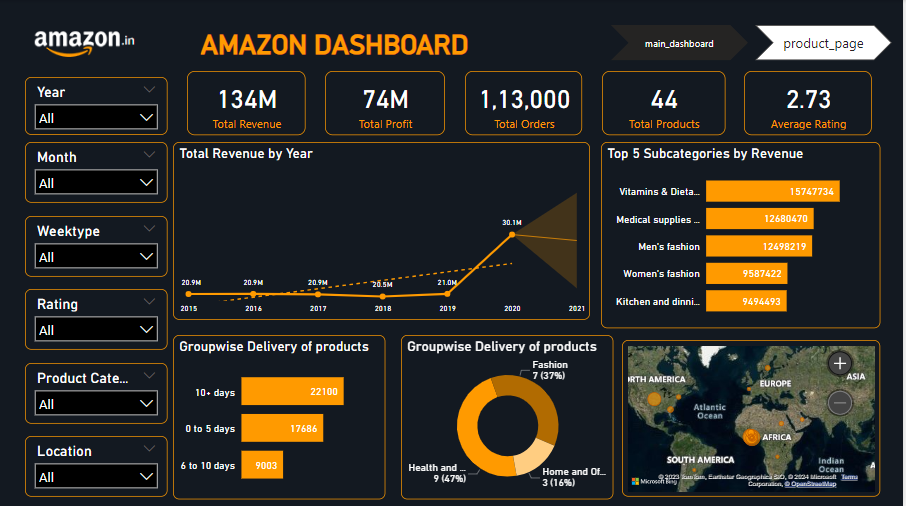

Layout of this report page (visuals, bound fields, positions):
{"tool":"powerbi","page":{"name":"main_dashboard","canvas":[1280,720],"ordinal":0},"visuals":[{"type":"slicer","fields":{"Values":["Calender.Year"]},"box":[37,109.2,201.6,82.3],"z":0},{"type":"slicer","fields":{"Values":["Calender.month"]},"box":[37,201.6,201.6,85.7],"z":1000},{"type":"slicer","fields":{"Values":["Calender.Weektype"]},"box":[37,305.7,201.6,85.7],"z":2000},{"type":"slicer","fields":{"Values":["E_commarce.Rating"]},"box":[37,409.9,201.6,85.7],"z":3000},{"type":"slicer","fields":{"Values":["E_commarce.Product Category"]},"box":[37,514,201.6,85.7],"z":4000},{"type":"slicer","fields":{"Values":["E_commarce.Location"]},"box":[37,618.2,201.6,85.7],"z":5000},{"type":"card","fields":{"Values":["All Measures.Total Revenue"]},"box":[266.4,100.8,168,90.7],"z":6000},{"type":"card","fields":{"Values":["All Measures.Total Profit"]},"box":[462.3,100.8,169.7,90.7],"z":7000},{"type":"card","fields":{"Values":["All Measures.Total Orders"]},"box":[659.8,100.8,166.3,90.7],"z":8000},{"type":"card","fields":{"Values":["All Measures.Total Customers"]},"box":[854,100.8,174.7,90.7],"z":9000},{"type":"card","fields":{"Values":["All Measures.Average rating"]},"box":[1056.6,100.8,181.4,90.7],"z":10000},{"type":"textbox","box":[280.5,35.3,671.9,68.9],"z":11000},{"type":"image","box":[37,18.5,168,85.7],"z":12000},{"type":"lineChart","fields":{"Category":["Calender.Year","Calender.Weektype","Calender.Quarter","Calender.month"],"Y":["All Measures.Total Revenue"]},"box":[246.9,201.6,591.3,252],"z":13000},{"type":"barChart","title":"Top 5 Subcategories by Revenue","fields":{"Category":["E_commarce.SubCategory"],"Y":["All Measures.Total Revenue"]},"box":[853.3,201.6,396.4,263.7],"z":14000},{"type":"map","fields":{"Category":["E_commarce.Location"],"Size":["All Measures.Total Revenue"]},"box":[883.6,482.1,366.2,221.7],"z":15000},{"type":"barChart","title":"Groupwise Delivery of products","fields":{"Category":["E_commarce.Delivery Groups (bins)"],"Y":["CountNonNull(E_commarce.Product)"]},"box":[246.9,475.4,300.7,233.5],"z":16000},{"type":"donutChart","title":"Groupwise Delivery of products","fields":{"Category":["E_commarce.Product Category"],"Y":["All Measures.Total Products"]},"box":[569.4,475.4,300.7,233.5],"z":17000},{"type":"pageNavigator","box":[866.8,35.3,399.8,50.4],"z":18000}]}

Visuals, with their boxes in screenshot pixels (x1, y1, x2, y2), scaled from the page's 1280x720 canvas onto the 906x506 screenshot:
slicer - Calender.Year: l=26, t=77, r=169, b=135
slicer - Calender.month: l=26, t=142, r=169, b=202
slicer - Calender.Weektype: l=26, t=215, r=169, b=275
slicer - E_commarce.Rating: l=26, t=288, r=169, b=348
slicer - E_commarce.Product Category: l=26, t=361, r=169, b=421
slicer - E_commarce.Location: l=26, t=434, r=169, b=495
card - All Measures.Total Revenue: l=189, t=71, r=307, b=135
card - All Measures.Total Profit: l=327, t=71, r=447, b=135
card - All Measures.Total Orders: l=467, t=71, r=585, b=135
card - All Measures.Total Customers: l=604, t=71, r=728, b=135
card - All Measures.Average rating: l=748, t=71, r=876, b=135
textbox: l=199, t=25, r=674, b=73
image: l=26, t=13, r=145, b=73
lineChart - Calender.Year x Calender.Weektype: l=175, t=142, r=593, b=319
"Top 5 Subcategories by Revenue" barChart: l=604, t=142, r=885, b=327
map - E_commarce.Location x All Measures.Total Revenue: l=625, t=339, r=885, b=495
"Groupwise Delivery of products" barChart: l=175, t=334, r=388, b=498
"Groupwise Delivery of products" donutChart: l=403, t=334, r=616, b=498
pageNavigator: l=614, t=25, r=897, b=60
